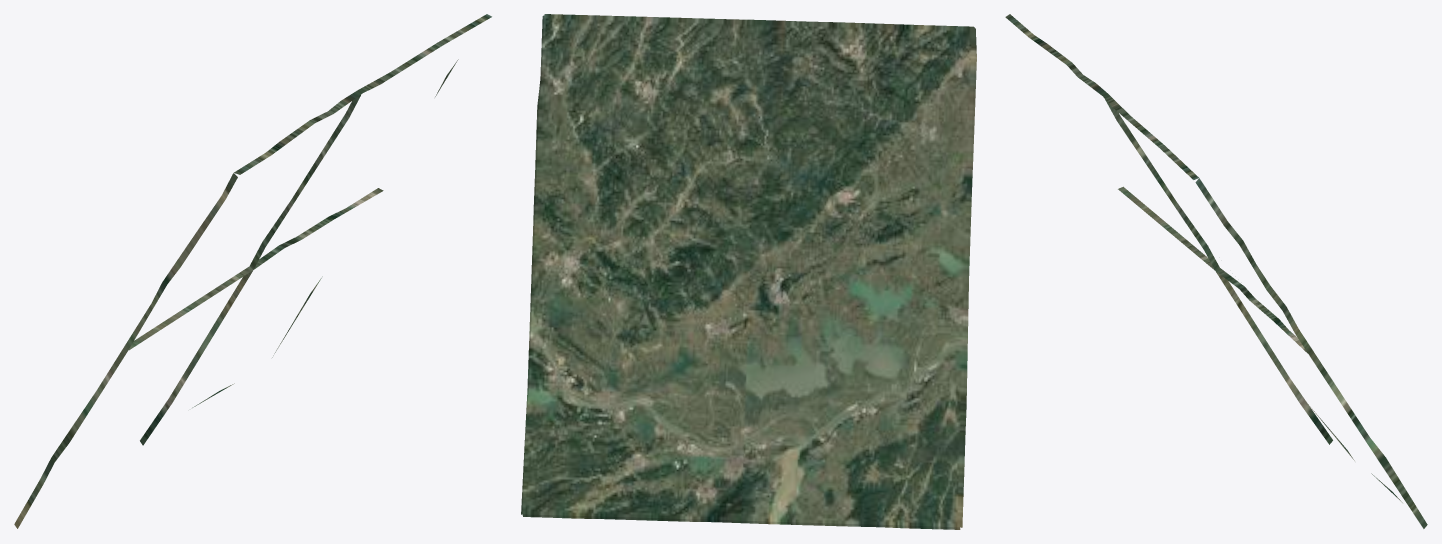
3 renders of one model, left to right at view 1: azimuth 30°, elevation 25°; view 2: azimuth 150°, elevation 25°; view 3: azimuth 270°, elevation 25°, orthographic. The views are drawn at different scales.
Size of the model in its own units: 157615 by 137843 by 132191.
1 material, 1 textured.
